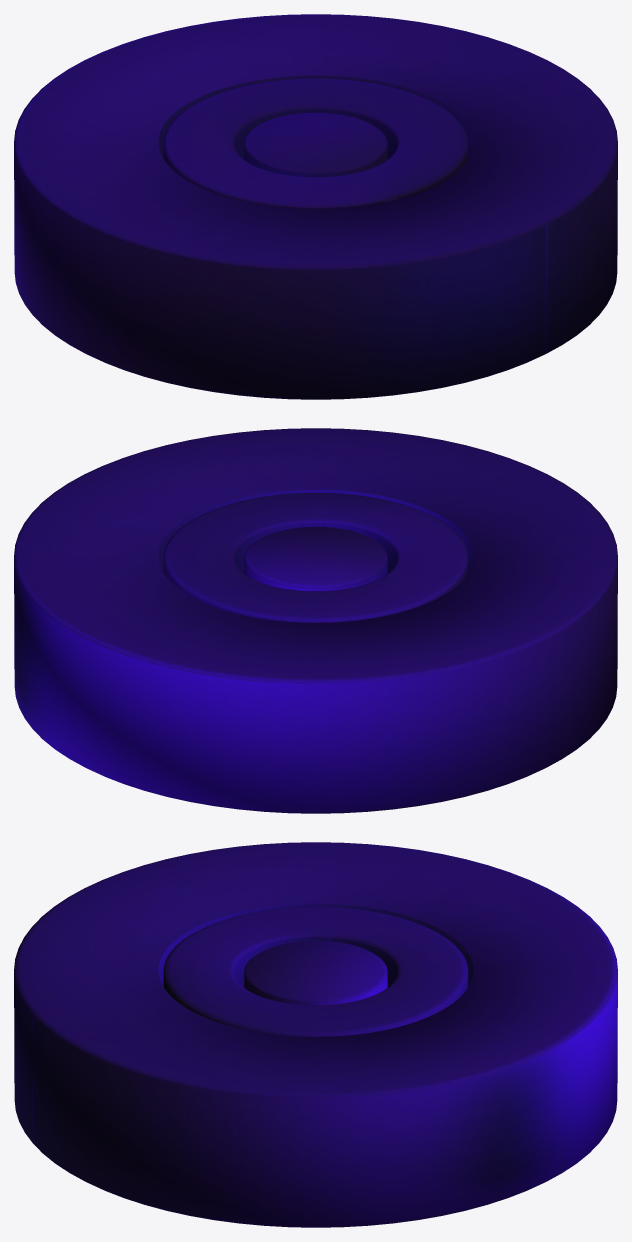
The picture shows the model from 3 angles, top to bottom: view 1: azimuth 30°, elevation 25°; view 2: azimuth 150°, elevation 25°; view 3: azimuth 270°, elevation 25°; orthographic projection.
Visible parts, largest first — view 1: GH_outer_ring, GH_inner_ring, GH_inner_dot; view 2: GH_outer_ring, GH_inner_ring, GH_inner_dot; view 3: GH_outer_ring, GH_inner_ring, GH_inner_dot.
Boxes of the visible parts, left/top/right/bottom form: GH_outer_ring: left=14, top=14, right=617, bottom=399; GH_inner_ring: left=163, top=79, right=468, bottom=208; GH_inner_dot: left=244, top=112, right=387, bottom=177; GH_outer_ring: left=14, top=428, right=617, bottom=813; GH_inner_ring: left=163, top=493, right=468, bottom=622; GH_inner_dot: left=244, top=526, right=387, bottom=591; GH_outer_ring: left=14, top=842, right=617, bottom=1227; GH_inner_ring: left=163, top=907, right=468, bottom=1036; GH_inner_dot: left=244, top=940, right=387, bottom=1005.
Size of what is drawn, in the model's own units: 105 by 26.42 by 105.
1 material, 1 textured.
